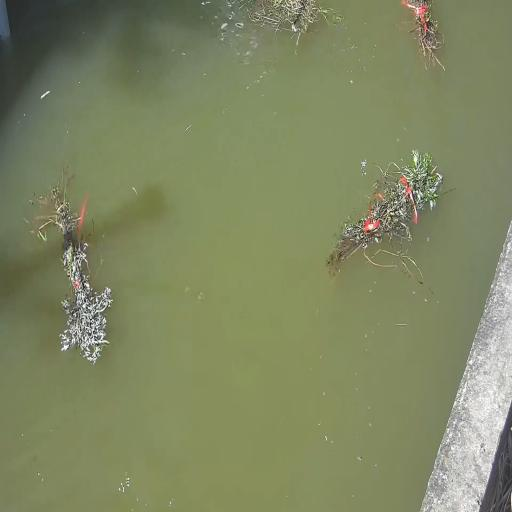twig: (25, 168, 116, 366), (327, 149, 448, 287), (246, 0, 325, 47), (400, 1, 447, 72)
